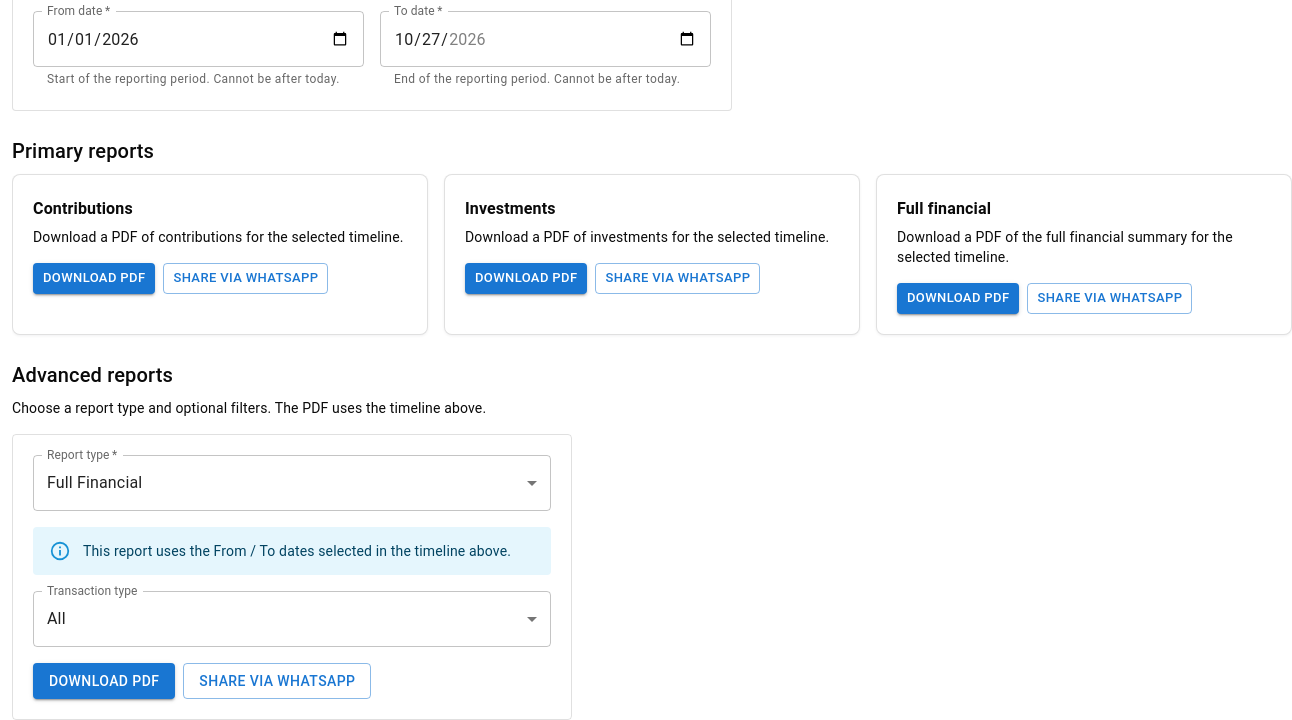
Test: ReportsExportPanel filters › shows the translated transaction type after choosing it
The image size is (1292, 720).
(page scrolled)
Click the dropdown named "Transaction type": coordinates (56, 619) [47, 609, 66, 628]
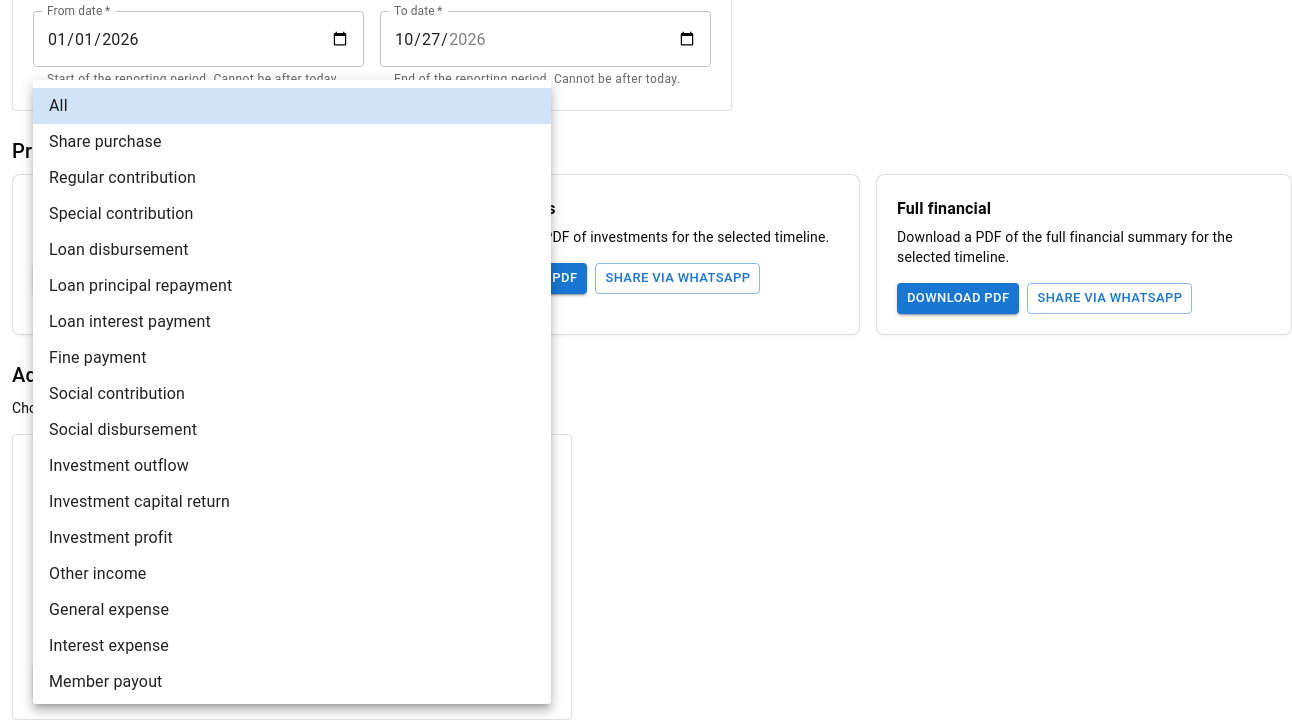
Click the option "Fine payment": coordinates (98, 358) [49, 348, 147, 367]
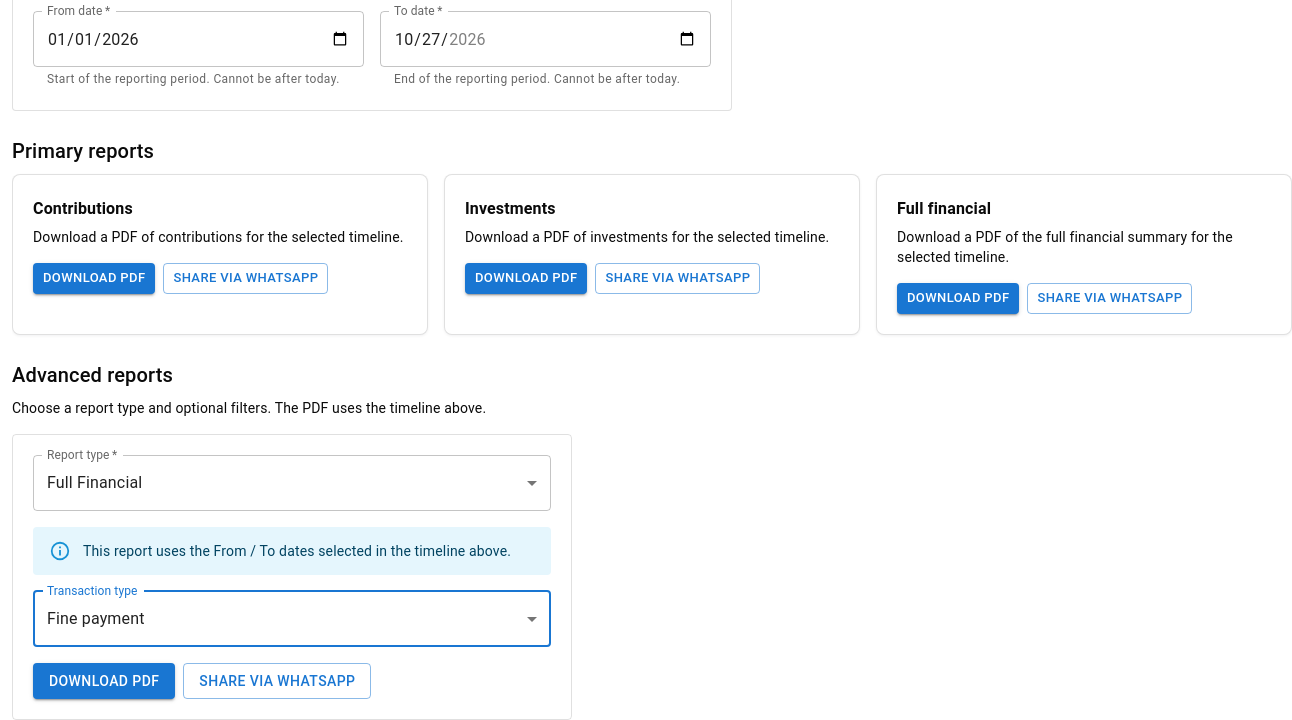
Result: the dropdown named "Transaction type" reads "Fine payment" at [47, 609, 145, 628]
